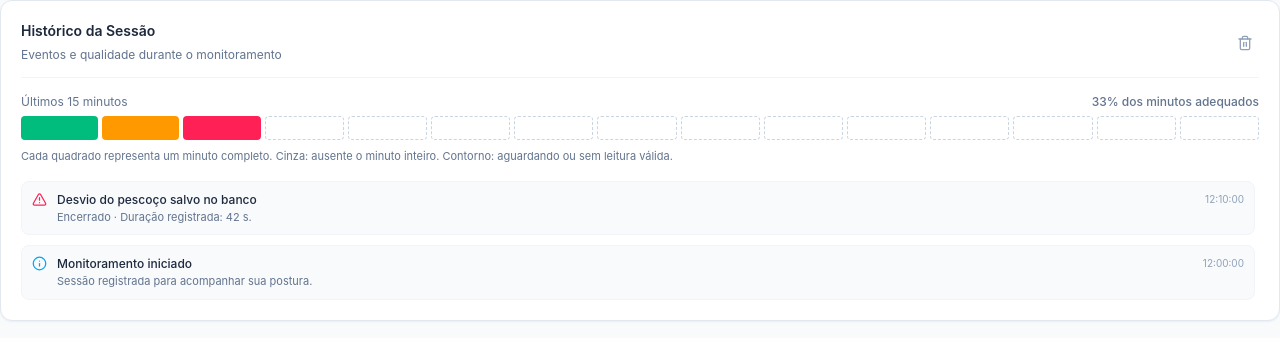
Test: database-backed session history › clears only the displayed events and still admits new stored alerts
The image size is (1280, 338).
Click the button named "Limpar lista de eventos" at (1245, 43), box [1231,29,1259,57]
Wait 10000 ms
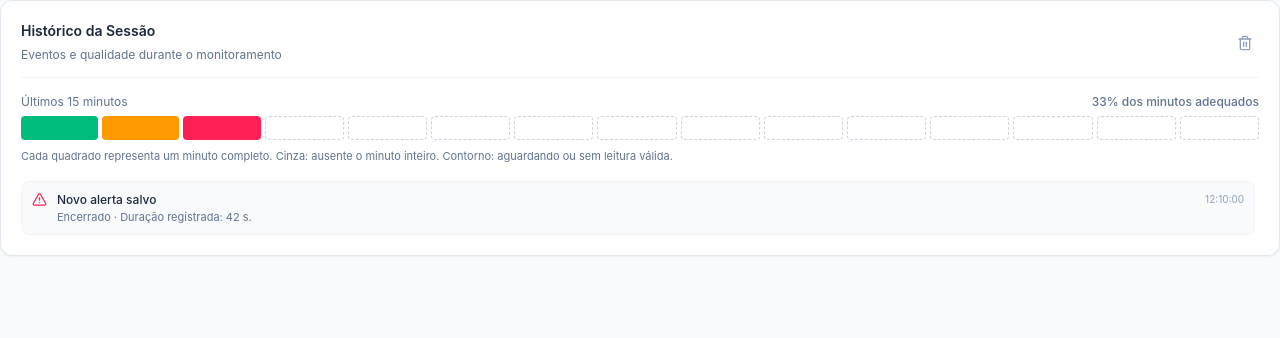
Expected: the text "33% dos minutos adequados" is shown, [1092,94,1259,110]
Now the text "Desvio do pescoço salvo no banco" is gone
Now the text "Novo alerta salvo" is shown, box [57,192,156,208]
